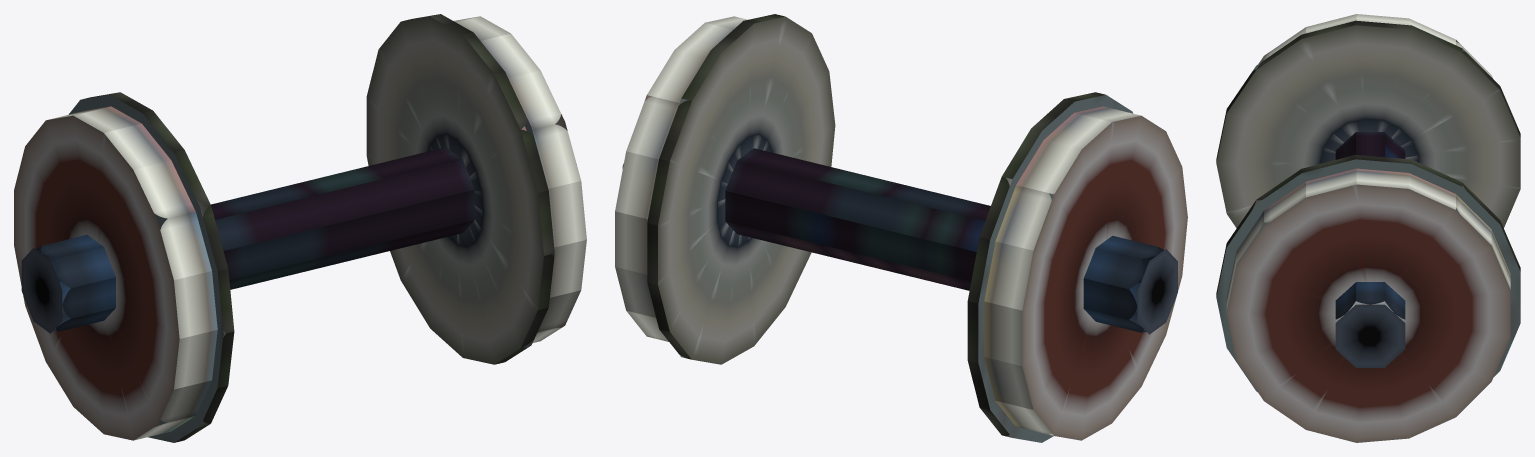
Rendered from wheel.obj.
3 renders of one model, left to right at view 1: azimuth 30°, elevation 25°; view 2: azimuth 150°, elevation 25°; view 3: azimuth 270°, elevation 25°, orthographic. The views are drawn at different scales.
Visible parts, largest first — view 1: wheel; view 2: wheel; view 3: wheel.
Boxes of the visible parts, bbox=[...] form: wheel: bbox=[14, 14, 586, 442]; wheel: bbox=[615, 14, 1187, 442]; wheel: bbox=[1216, 14, 1520, 442].
Size of the model in its own units: 1.56 by 0.9366 by 0.9326.
